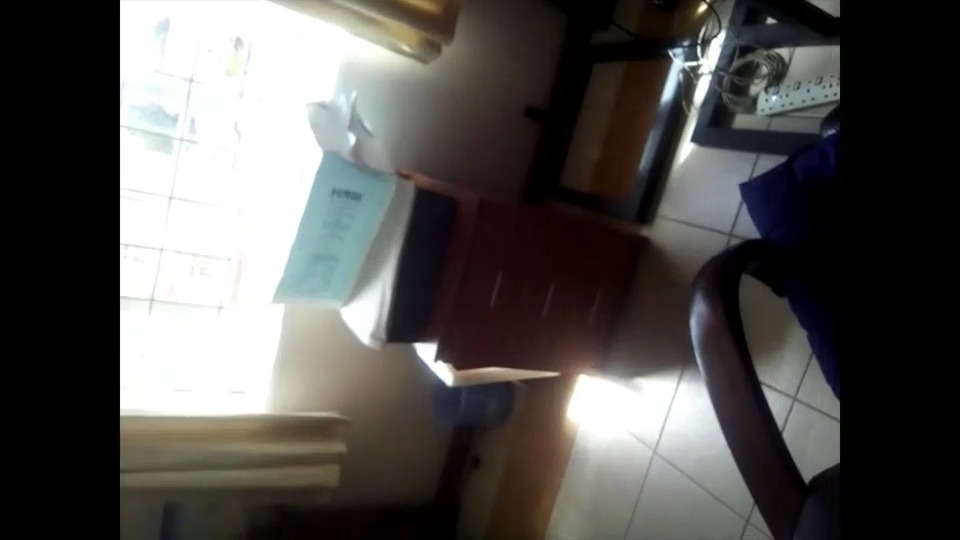wheat_flour_blue_label: (251, 100, 394, 303)
